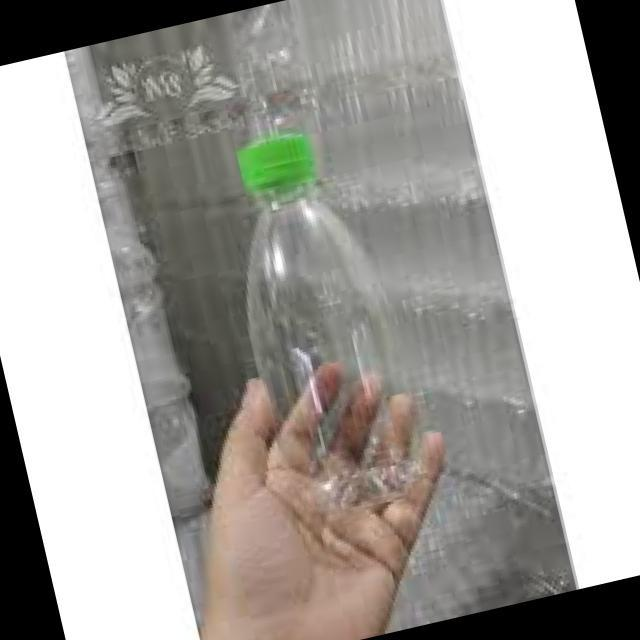good: (174, 101, 462, 561)
